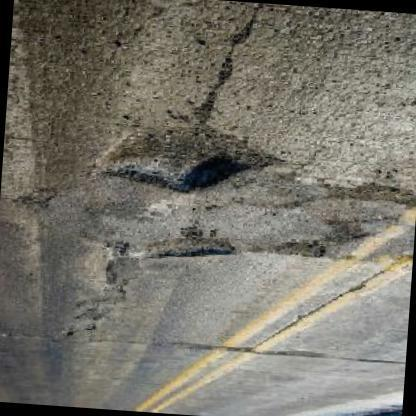pothole: (104, 112, 284, 192), (58, 235, 131, 340), (325, 170, 416, 212), (146, 230, 238, 260), (276, 234, 333, 259), (328, 216, 366, 244)
